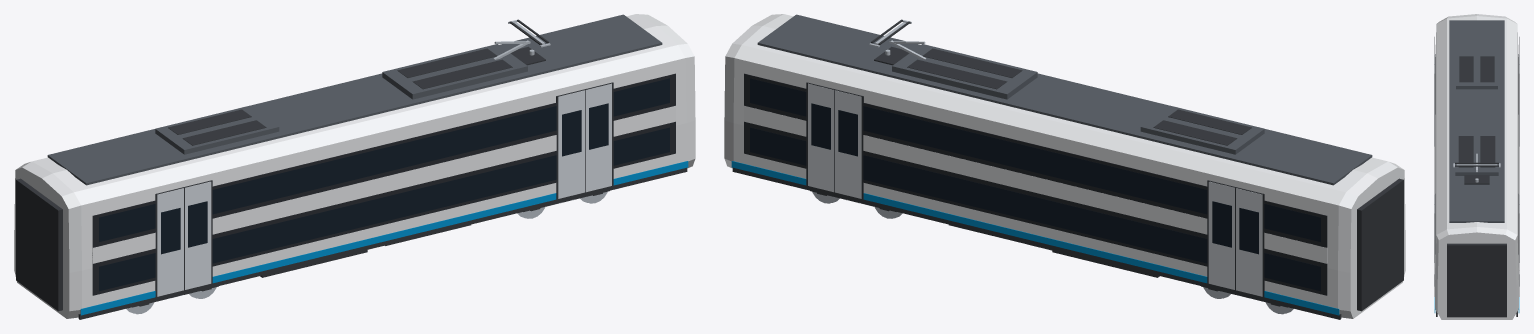
Rendered from rer_e_rerng_car.glb.
3 renders of one model, left to right at view 1: azimuth 30°, elevation 25°; view 2: azimuth 150°, elevation 25°; view 3: azimuth 270°, elevation 25°, orthographic. The views are drawn at different scales.
Parts seen in each view (by area): view 1: rer_e_rerng_neutral; view 2: rer_e_rerng_neutral; view 3: rer_e_rerng_neutral.
Boxes of the visible parts, x1=… form: rer_e_rerng_neutral: x1=14, y1=14, x2=695, y2=319; rer_e_rerng_neutral: x1=724, y1=14, x2=1405, y2=319; rer_e_rerng_neutral: x1=1434, y1=14, x2=1519, y2=319.
Size of the model in its own units: 18.74 by 4.88 by 3.06.
Materials: 1 (1 with a texture image).
